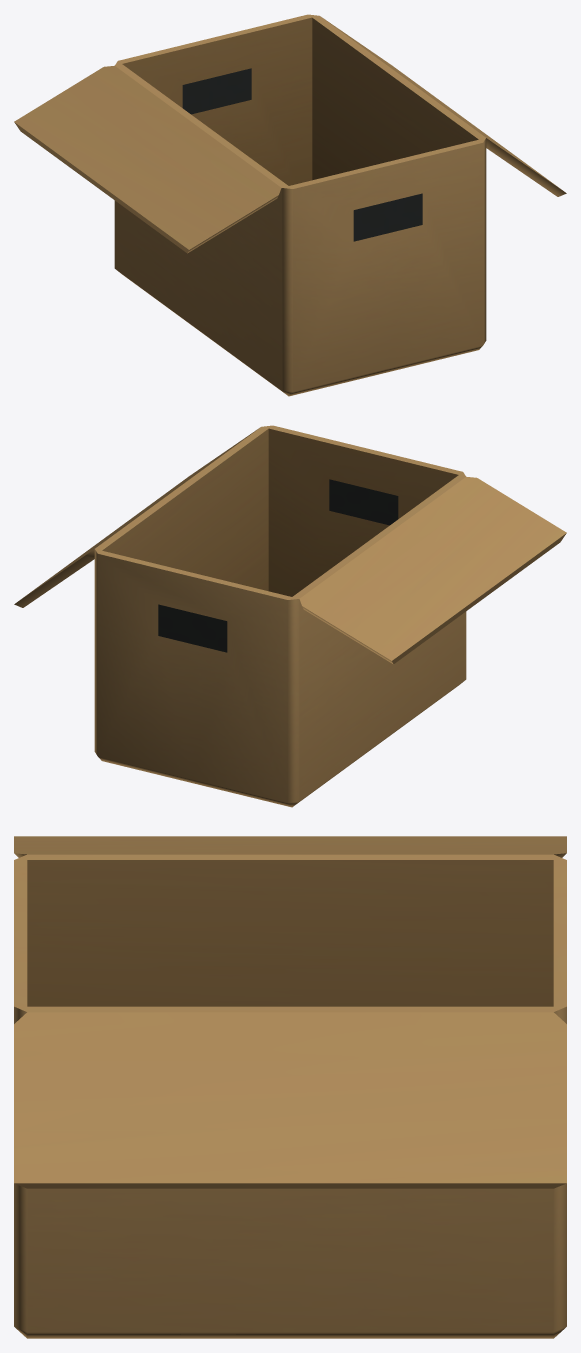
Rendered from box_cardboard_large_rectangle_open_flaps_handle.fbx.
3 renders of one model, top to bottom at view 1: azimuth 30°, elevation 25°; view 2: azimuth 150°, elevation 25°; view 3: azimuth 270°, elevation 25°, orthographic. The views are drawn at different scales.
Visible parts, largest first — view 1: box_cardboard_large_rectangle_open_flaps_handle; view 2: box_cardboard_large_rectangle_open_flaps_handle; view 3: box_cardboard_large_rectangle_open_flaps_handle.
Part boxes in pixels (x1,y1,x2,y2): box_cardboard_large_rectangle_open_flaps_handle: (14, 14, 566, 396); box_cardboard_large_rectangle_open_flaps_handle: (14, 425, 566, 807); box_cardboard_large_rectangle_open_flaps_handle: (14, 836, 566, 1338).
Bounding box in the file's own units: 191 × 102 × 154.
